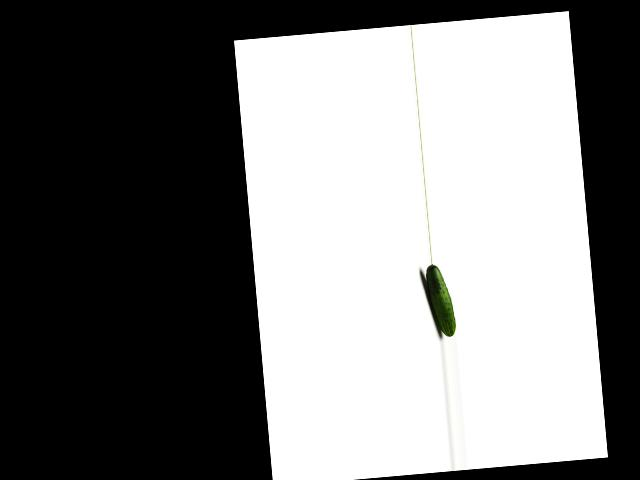cucumber: (424, 262, 456, 337)
